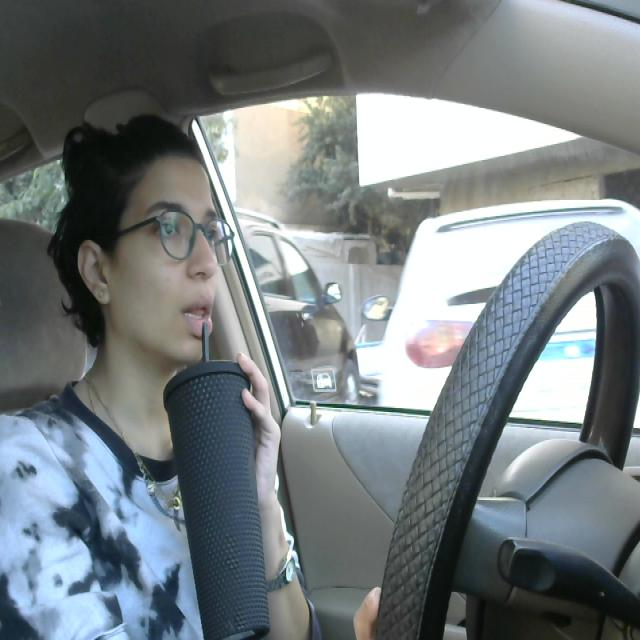drinking: (163, 305, 276, 640)
